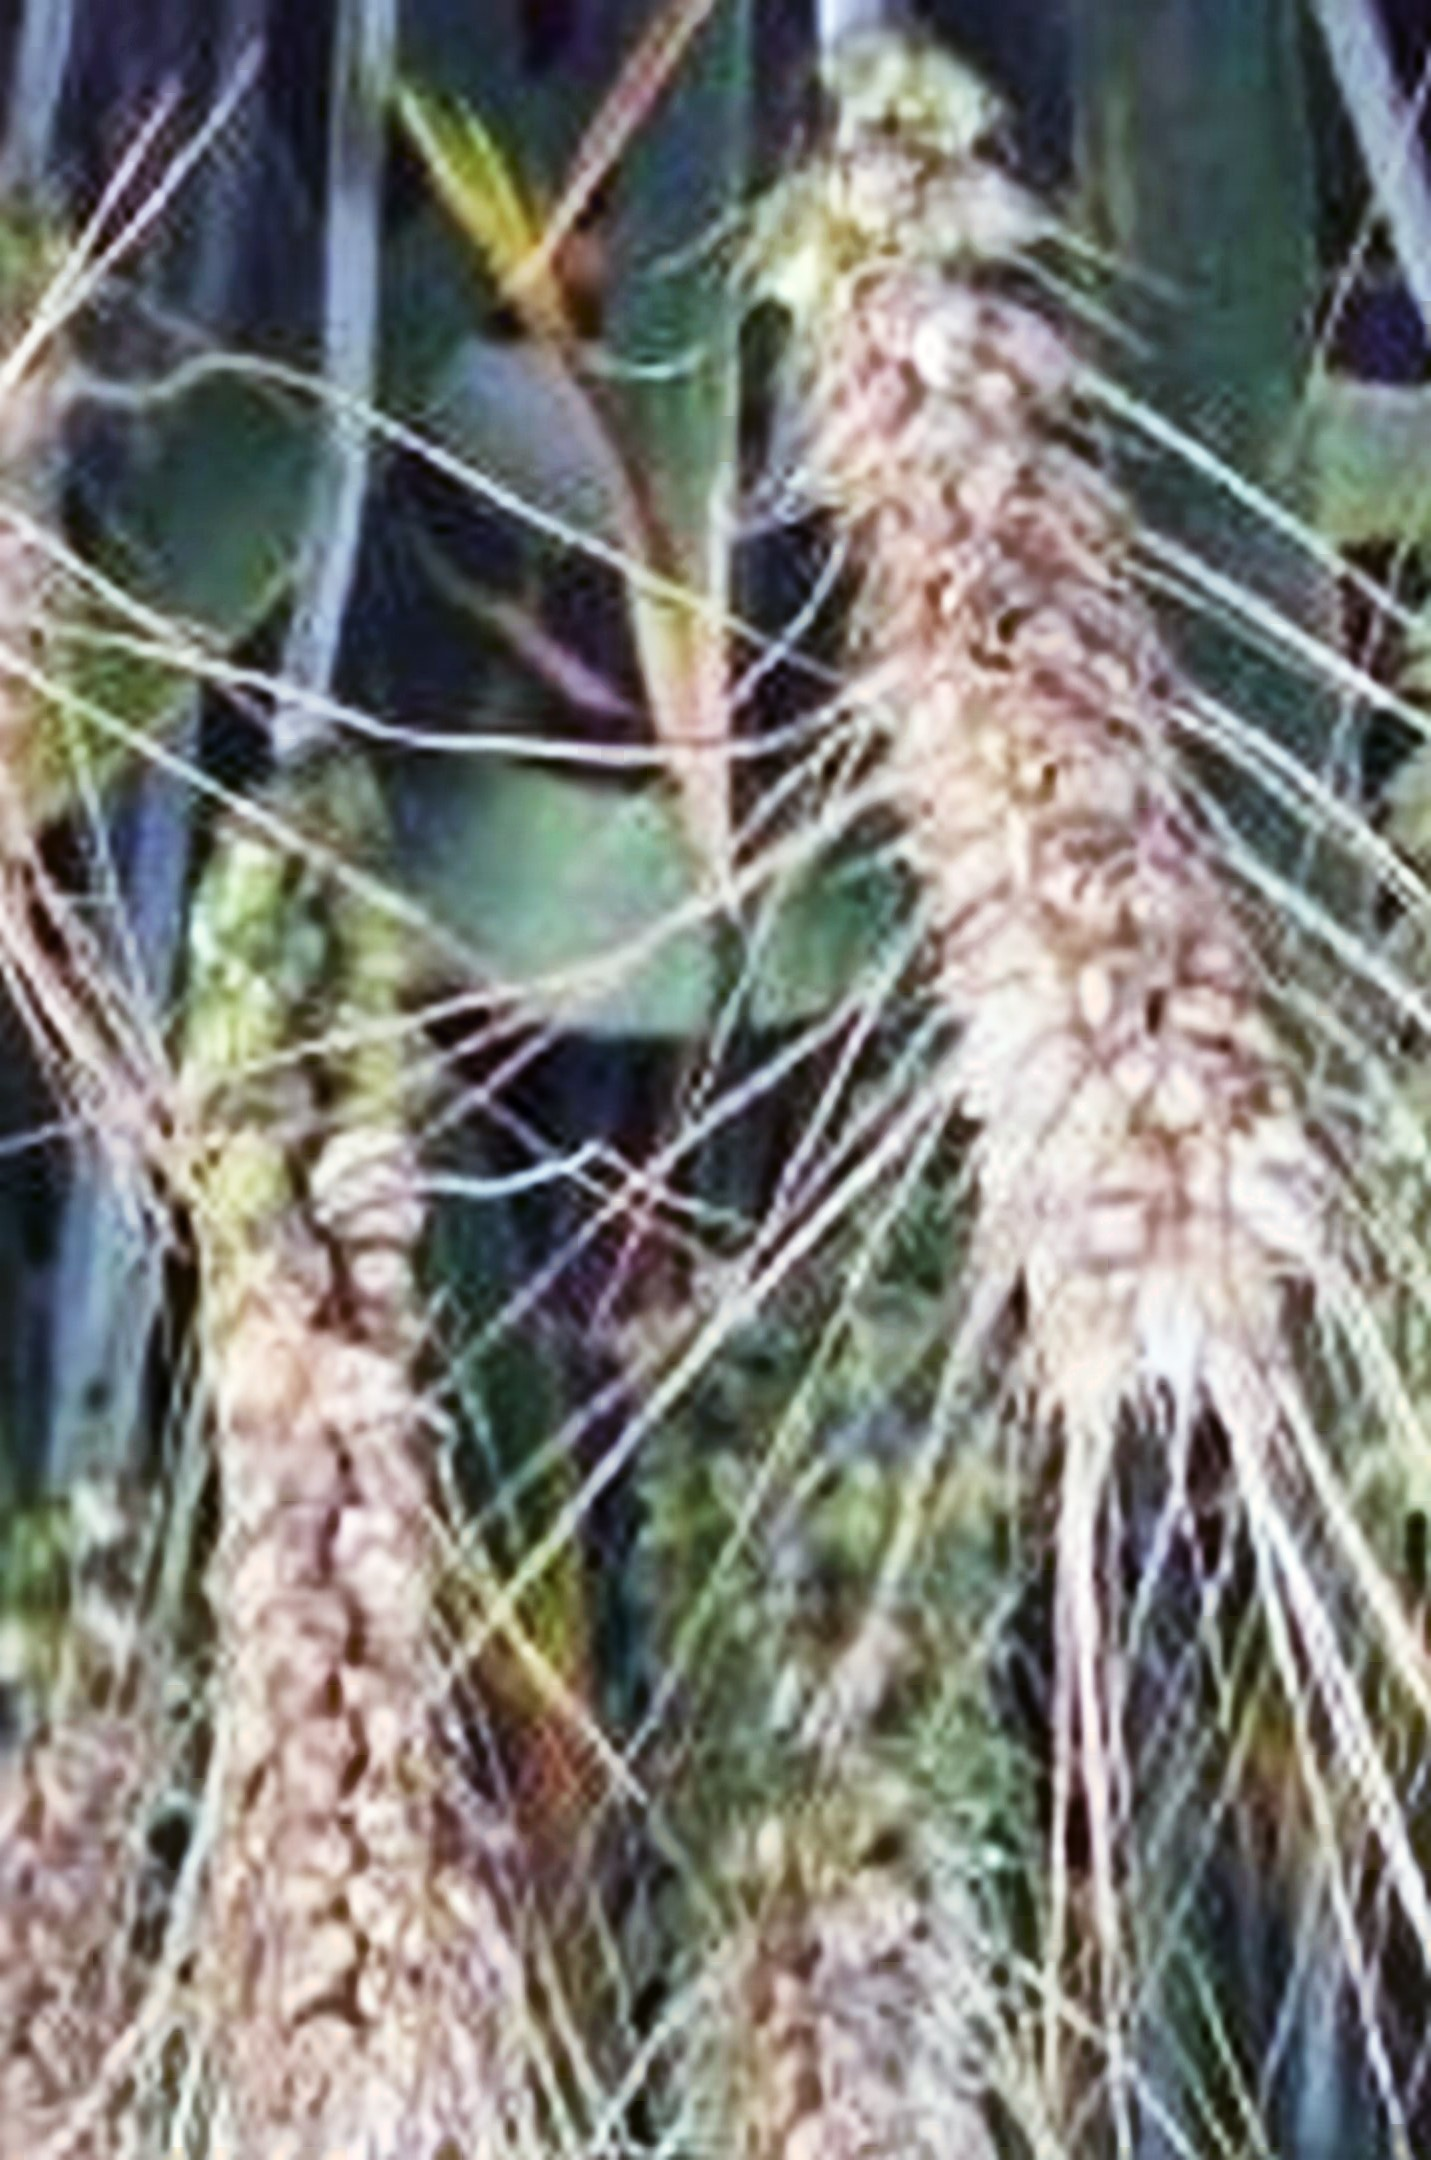Wheat scab: (144, 752, 553, 2096)
